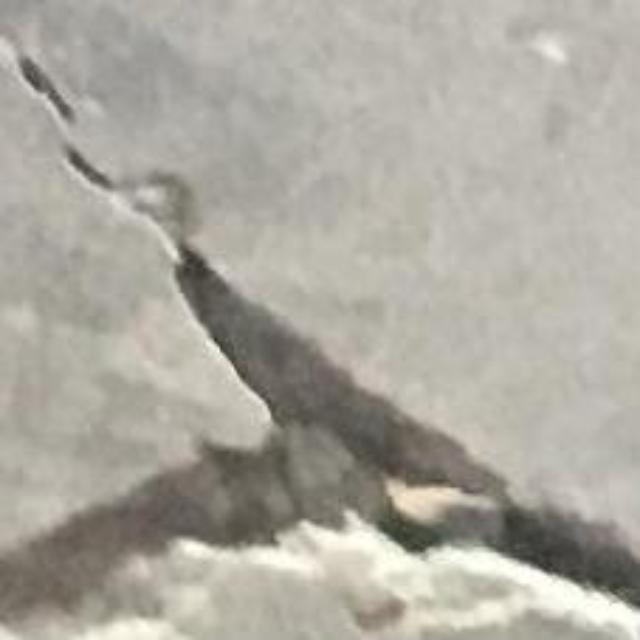crack: (0, 141, 639, 617)
